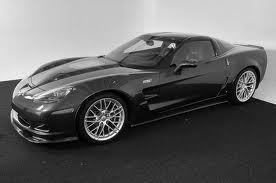car: (12, 33, 268, 144)
